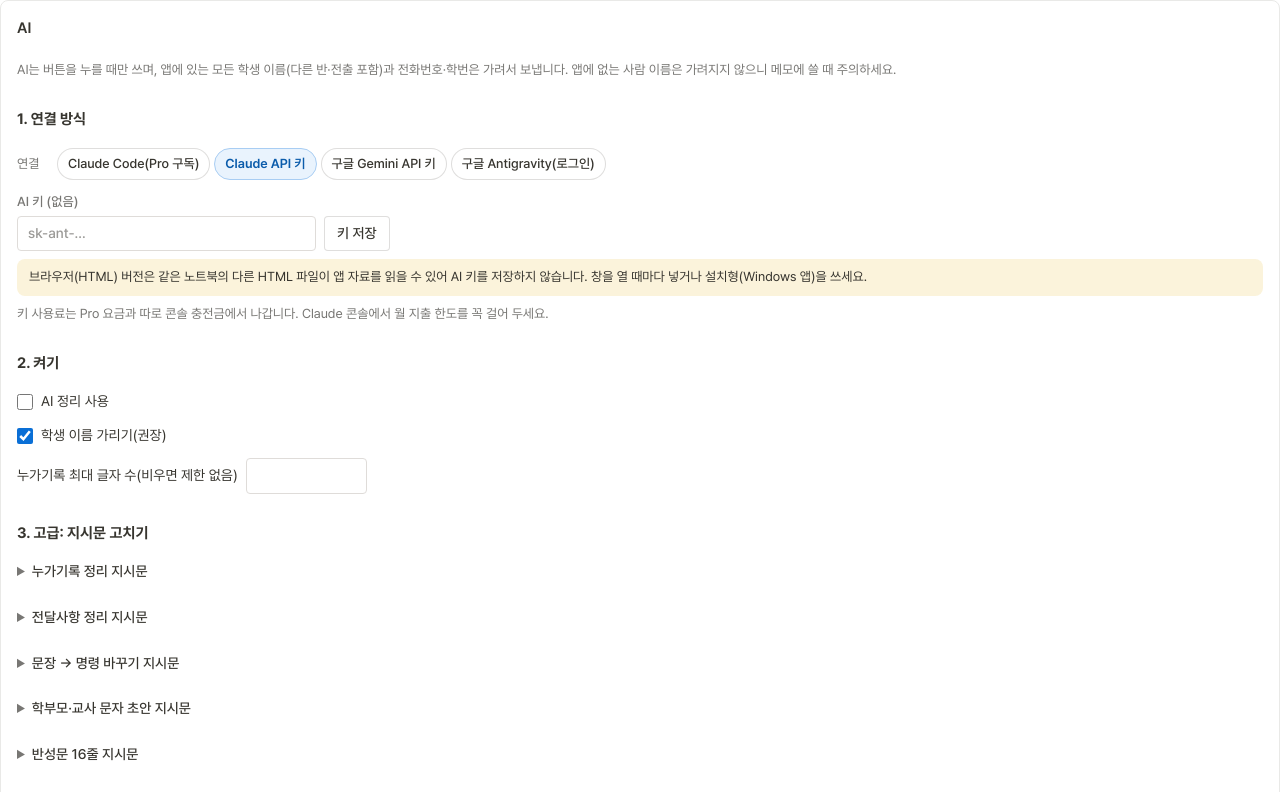
Scenario: 지출 한도 안내는 API 키를 고를 때만, 순서는 연결 방식 → AI 정리 사용
What coordinates should you click on to do the following:
click the radio button labelled "Claude Code(Pro 구독)"
I would click on:
 (134, 164)
Its box is x1=57 y1=148 x2=210 y2=180.
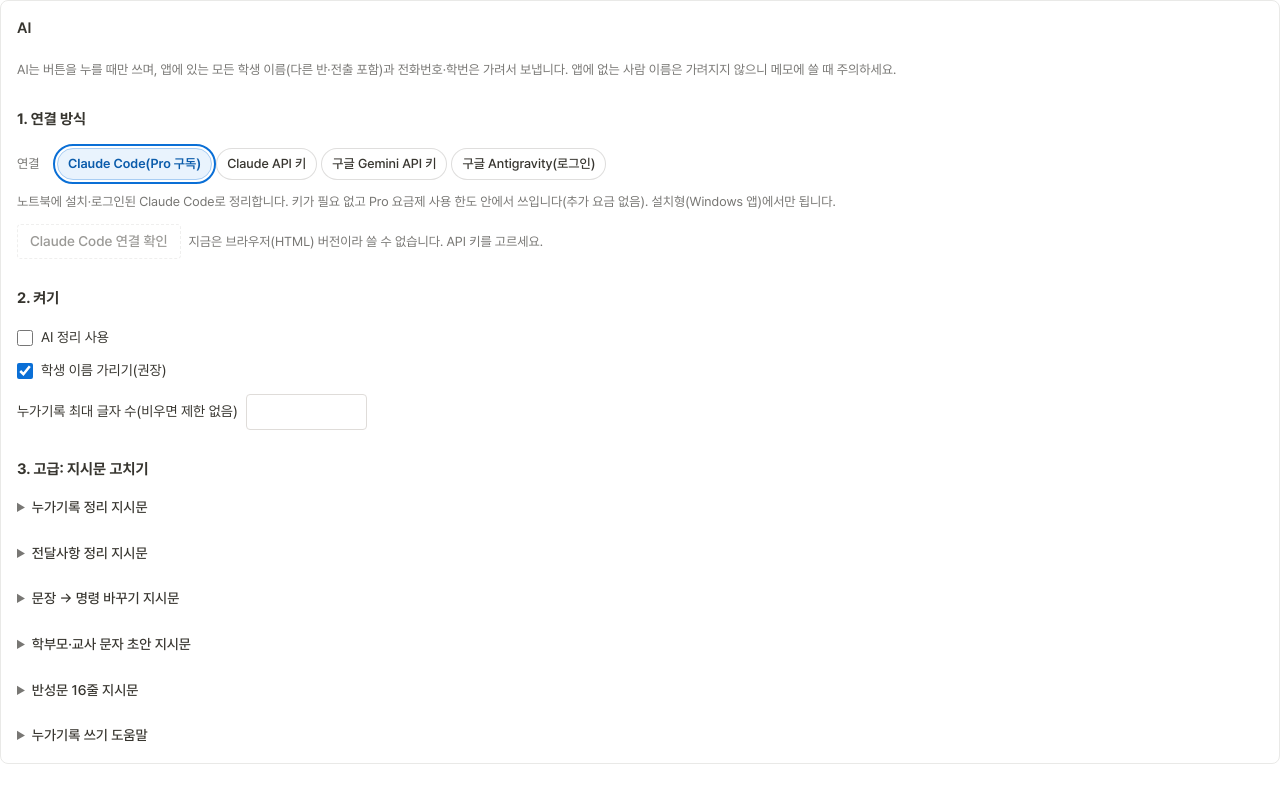
Expected: the text "지출 한도" is gone
What coordinates should you click on to do the following:
click the radio button labelled "Claude API 키"
I would click on:
 (267, 164)
Its box is x1=216 y1=148 x2=317 y2=180.
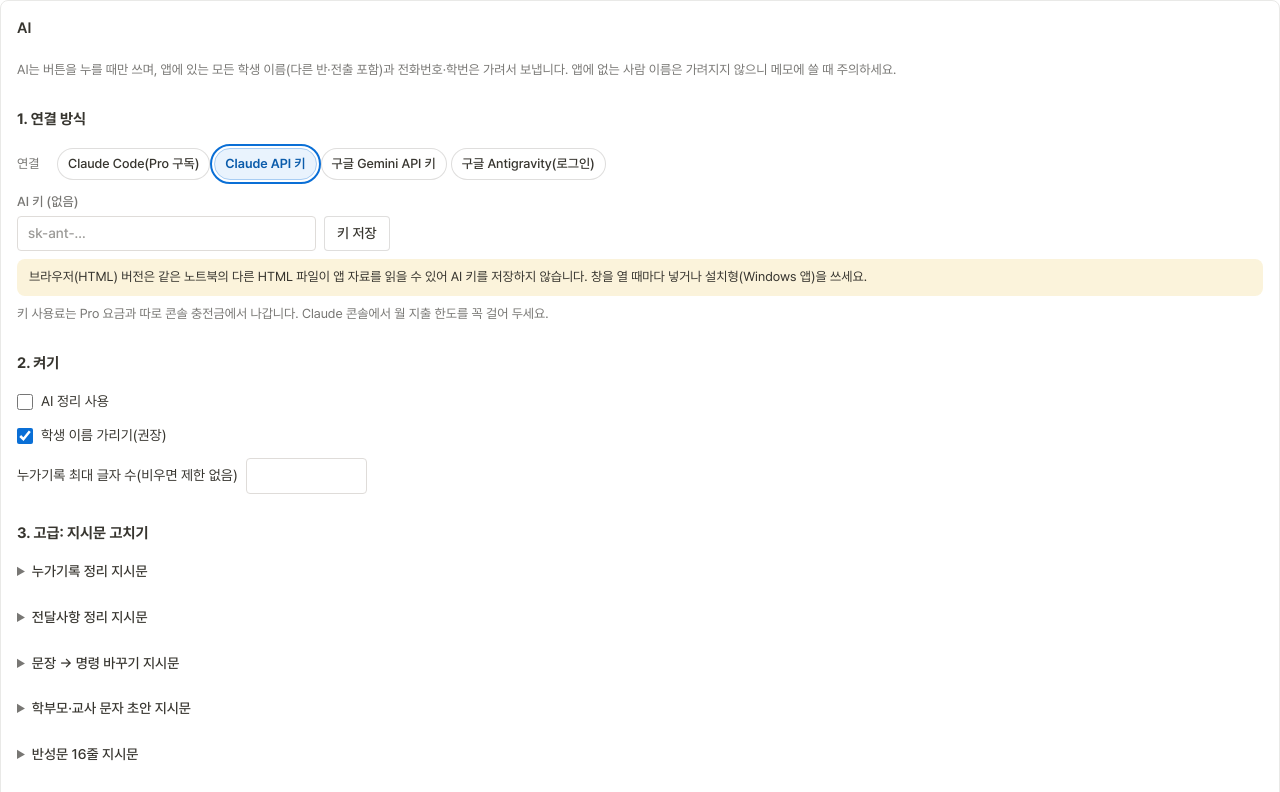
Expected: the text "지출 한도" is shown, x1=17 y1=306 x2=549 y2=321
